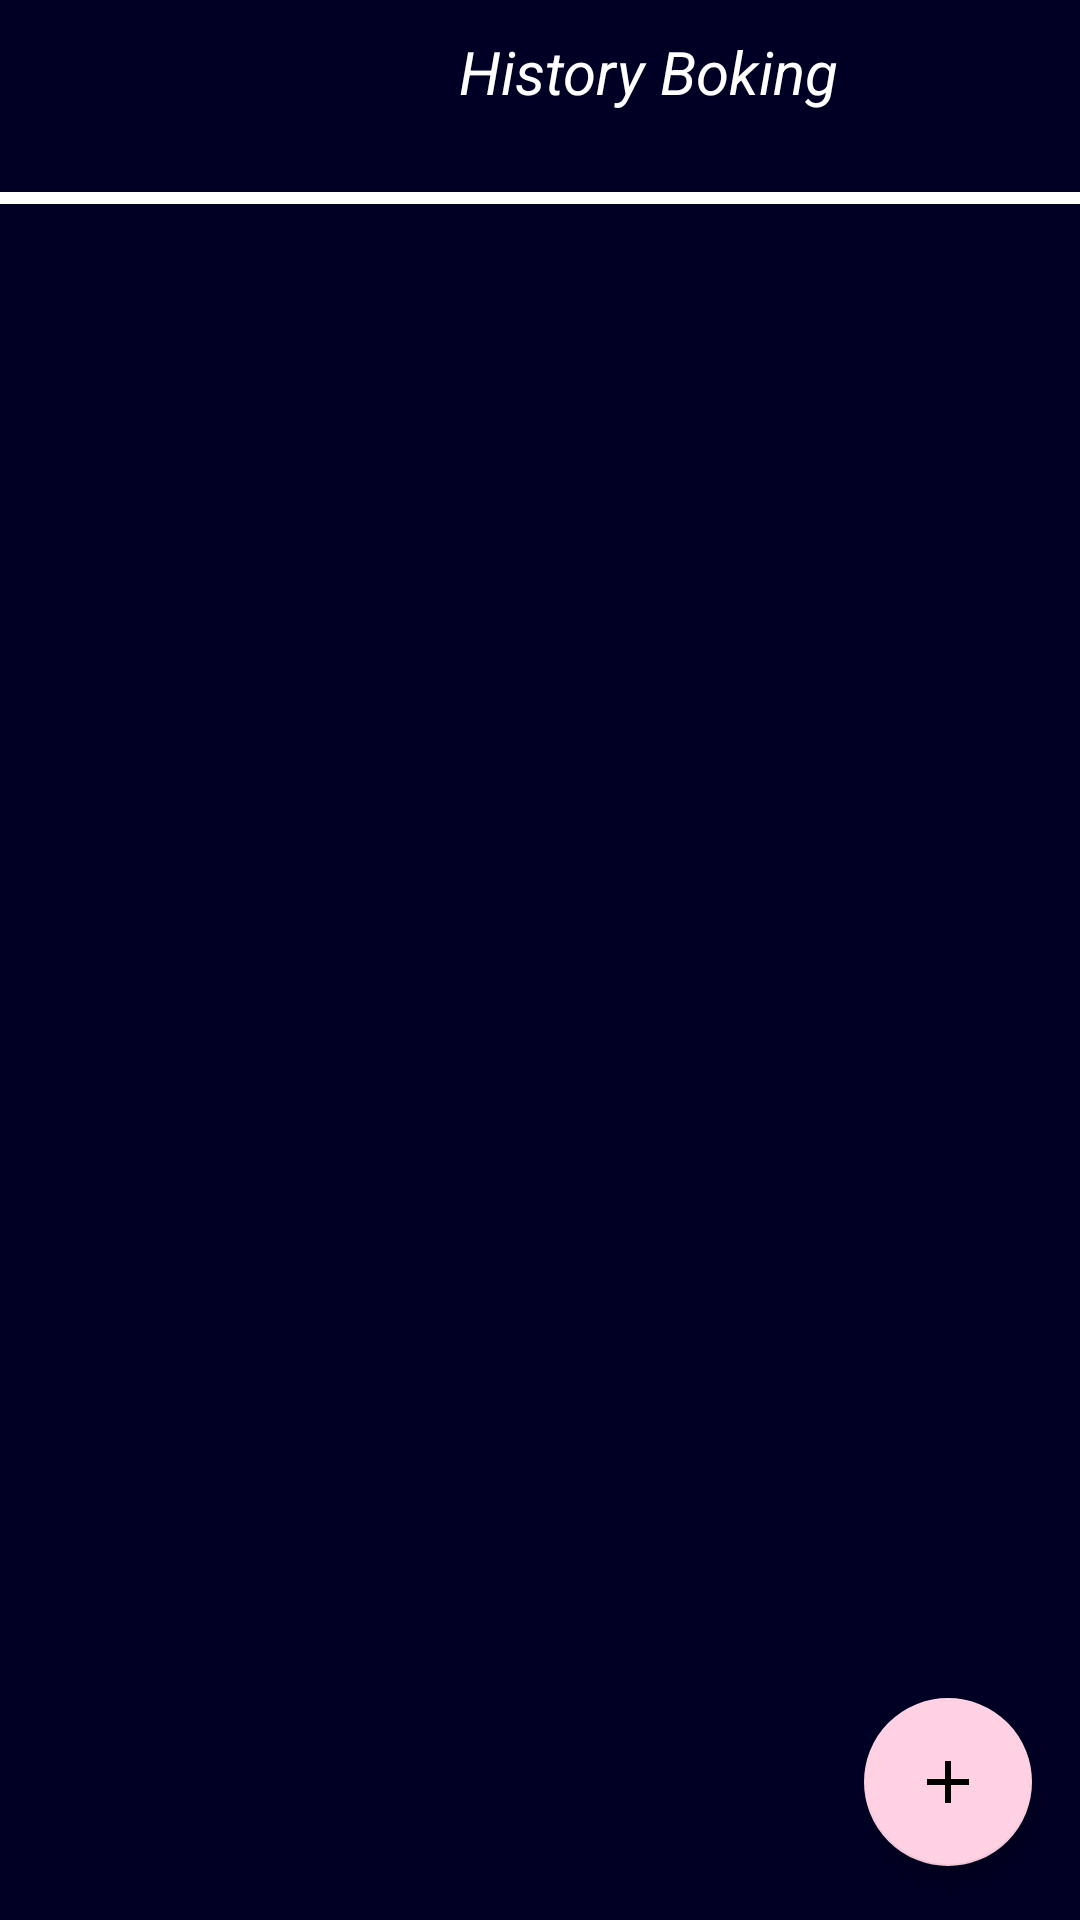

Named icons in this screenshot (1080*1920) and their centers, (x,y):
add: (948,1782)
